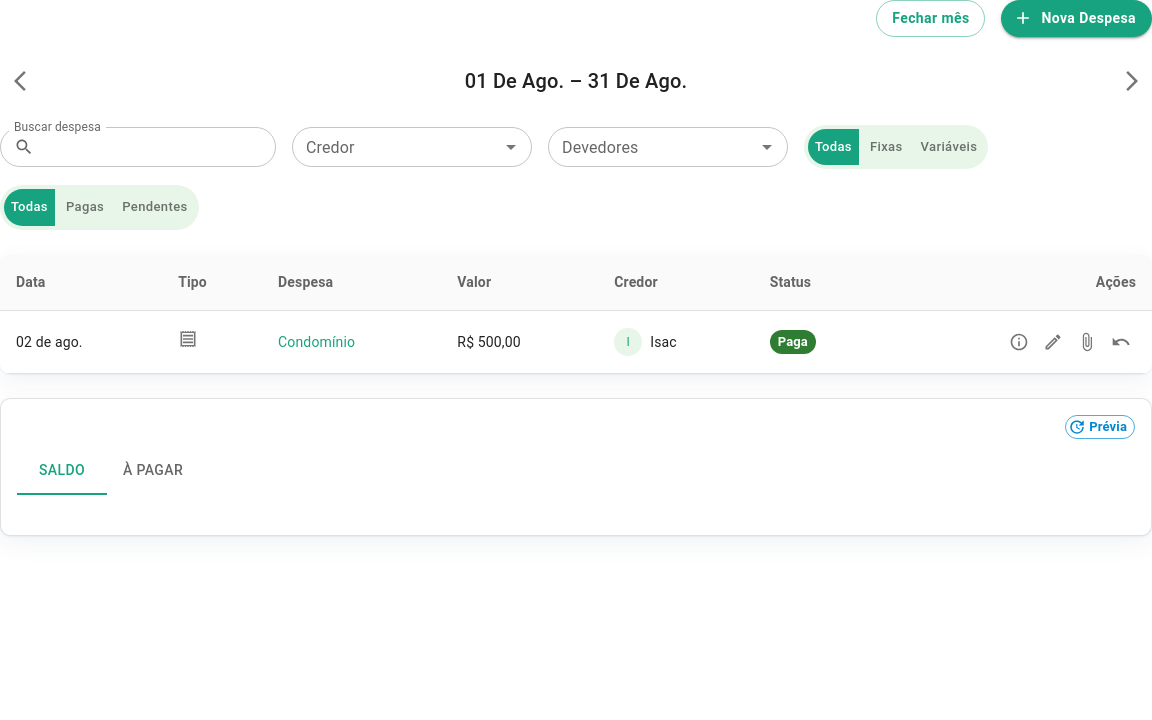
Test: ExpenseManager - listagem em cards › descrição do pagamento no modal de detalhes › shows the note of a paid expense, with no proof link when it was paid with text only
This screenshot has width=1152, height=720.
Check: the link "Condomínio" is shown, box 278,334 -> 355,350
Click the button named "Ver detalhes" at {"x": 1019, "y": 342}, box 1004,327 -> 1034,357
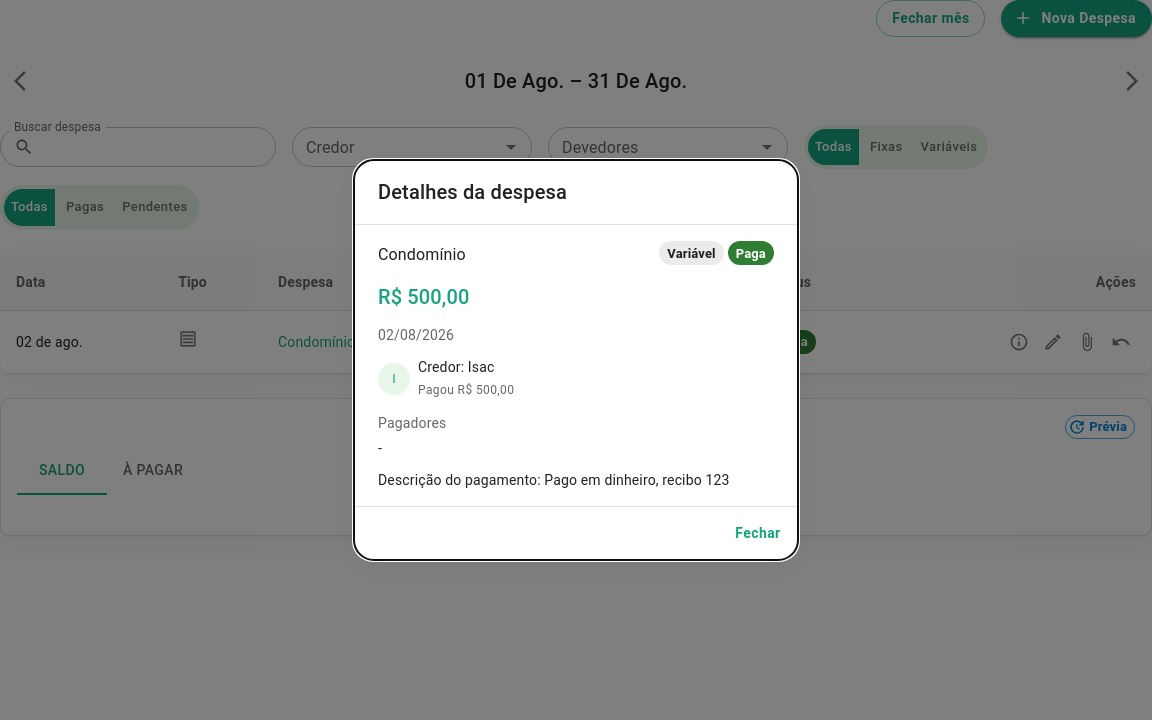
Check: the text "Descrição do pagamento: Pago em dinheiro, recibo 123" is shown, box 378,470 -> 774,490
